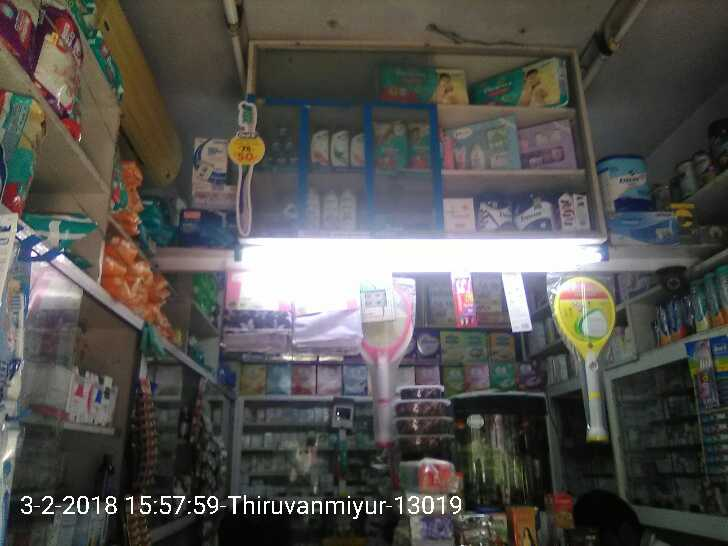vicks: (266, 126, 297, 168)
